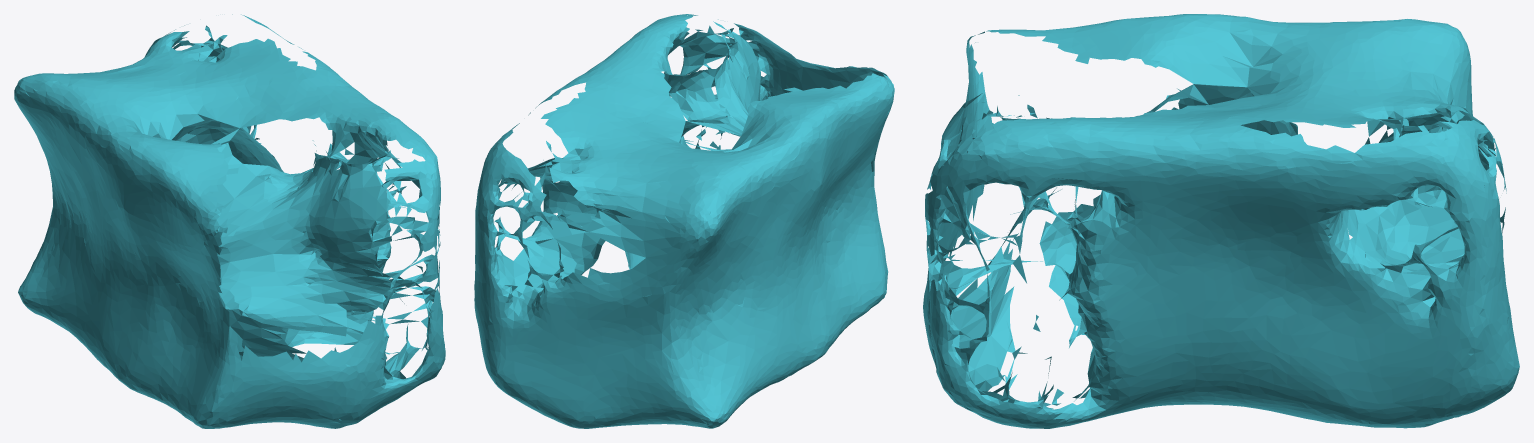
The picture shows the model from 3 angles, left to right: view 1: azimuth 30°, elevation 25°; view 2: azimuth 150°, elevation 25°; view 3: azimuth 270°, elevation 25°; orthographic projection. The views are drawn at different scales.
Parts seen in each view (by area): view 1: Renderer Node; view 2: Renderer Node; view 3: Renderer Node.
Boxes of the visible parts, x1,y1,x2,y2 form: Renderer Node: (14,14,445,428); Renderer Node: (474,14,894,428); Renderer Node: (923,14,1519,428).
Size of the model in its own units: 0.4238 by 0.4352 by 0.7258.
Materials: 1 (1 with a texture image).
